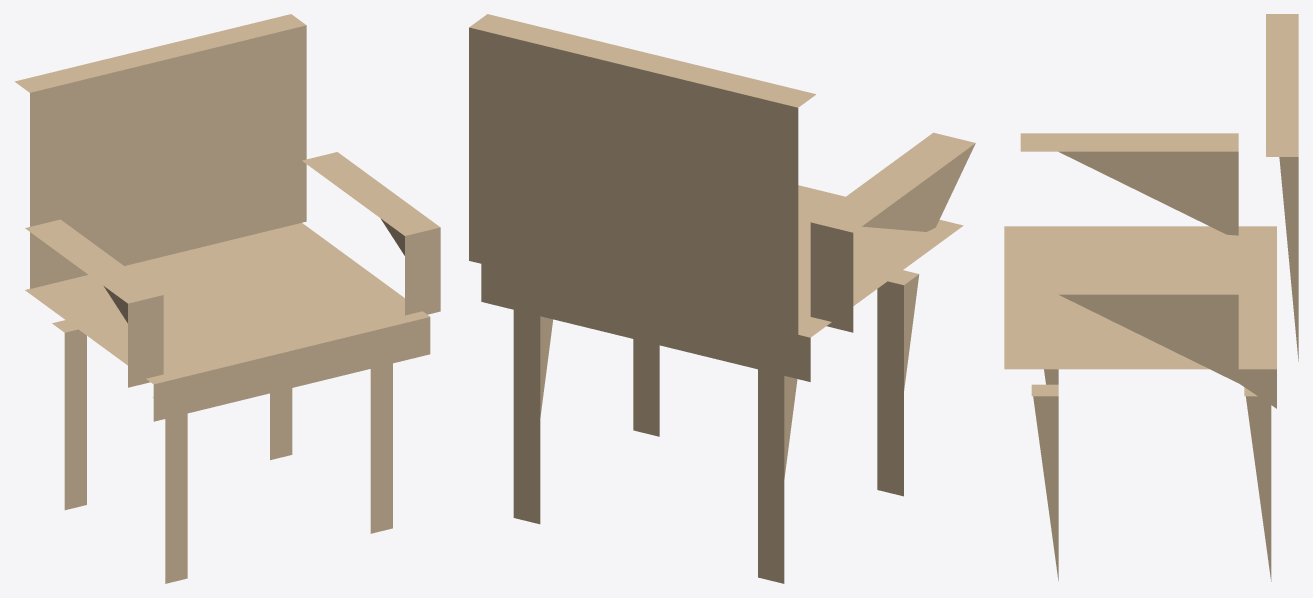
Rendered from armchair.glb.
3 views of the same model, side by side, from view 1: azimuth 30°, elevation 25°; view 2: azimuth 150°, elevation 25°; view 3: azimuth 270°, elevation 25° (orthographic). The views are drawn at different scales.
Bounding box in the file's own units: 0.7 × 0.89 × 0.54.
